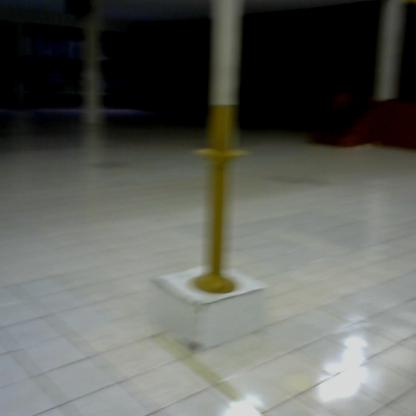pole: (192, 100, 251, 298)
